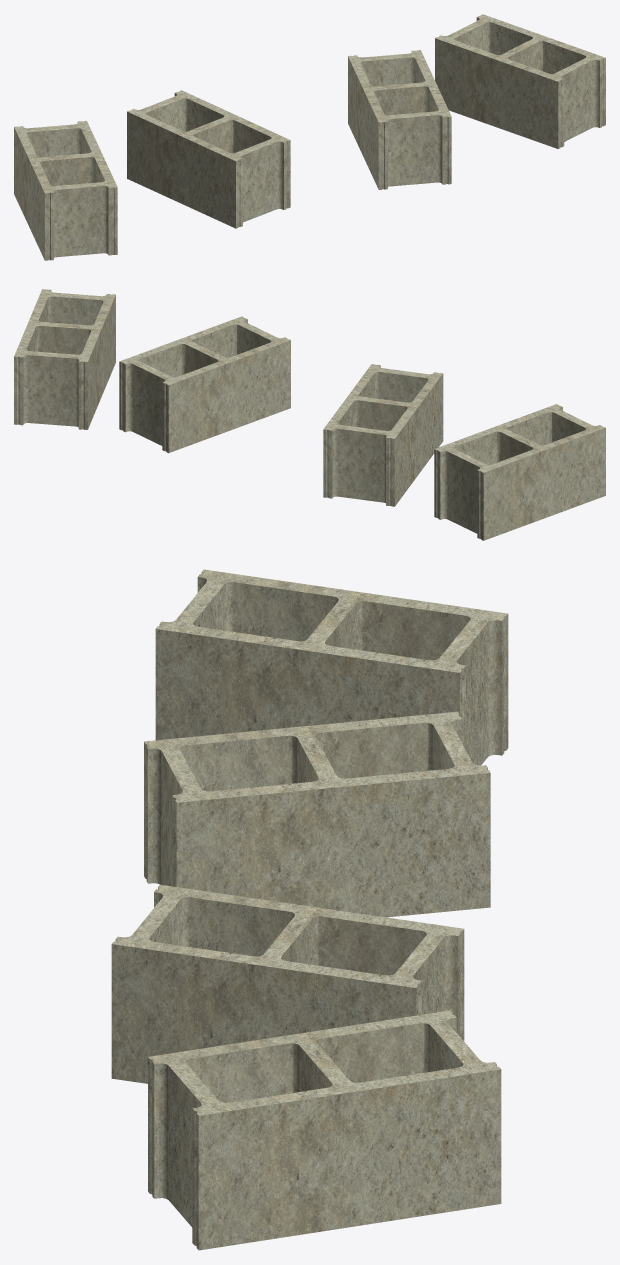
The model's file is mystery_box_cinder_blocks.glb.
The picture shows the model from 3 angles, top to bottom: view 1: azimuth 30°, elevation 25°; view 2: azimuth 150°, elevation 25°; view 3: azimuth 270°, elevation 25°; orthographic projection. The views are drawn at different scales.
Parts seen in each view (by area): view 1: CinderBlock_CinderBlock_0.001, CinderBlock_CinderBlock_0.004, CinderBlock_CinderBlock_0.002, CinderBlock_CinderBlock_0.003; view 2: CinderBlock_CinderBlock_0.002, CinderBlock_CinderBlock_0.003, CinderBlock_CinderBlock_0.004, CinderBlock_CinderBlock_0.001; view 3: CinderBlock_CinderBlock_0.001, CinderBlock_CinderBlock_0.004, CinderBlock_CinderBlock_0.003, CinderBlock_CinderBlock_0.002.
Part boxes in pixels (x1,y1,x2,y2): CinderBlock_CinderBlock_0.001: [435, 14, 605, 148]; CinderBlock_CinderBlock_0.004: [127, 90, 290, 228]; CinderBlock_CinderBlock_0.002: [348, 50, 451, 189]; CinderBlock_CinderBlock_0.003: [14, 120, 117, 260]; CinderBlock_CinderBlock_0.002: [119, 316, 290, 453]; CinderBlock_CinderBlock_0.003: [434, 404, 605, 540]; CinderBlock_CinderBlock_0.004: [323, 364, 443, 506]; CinderBlock_CinderBlock_0.001: [14, 289, 115, 429]; CinderBlock_CinderBlock_0.001: [148, 1010, 501, 1250]; CinderBlock_CinderBlock_0.004: [144, 711, 490, 917]; CinderBlock_CinderBlock_0.003: [155, 569, 508, 765]; CinderBlock_CinderBlock_0.002: [111, 884, 464, 1083].
Size of the model in its own units: 1.77 by 0.2032 by 0.5424.
Materials: 1 (1 with a texture image).
